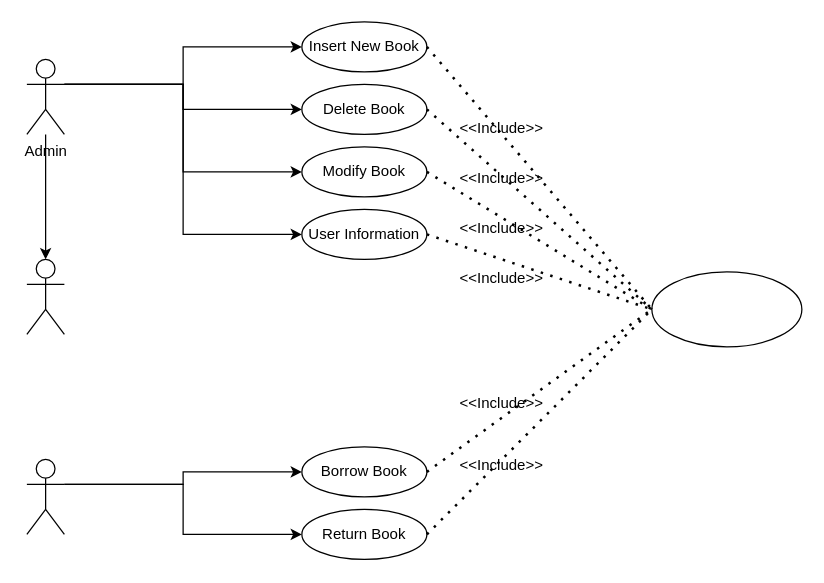
Some shapes in this 824 by 583 pixel diagram are drawn without their labels. The shapes that lost their labels are listed below. From the top down, each one's centre as x and y in pixels, then its label:
the point at 45,296: Worker
the point at 726,309: Display
the point at 45,496: User
